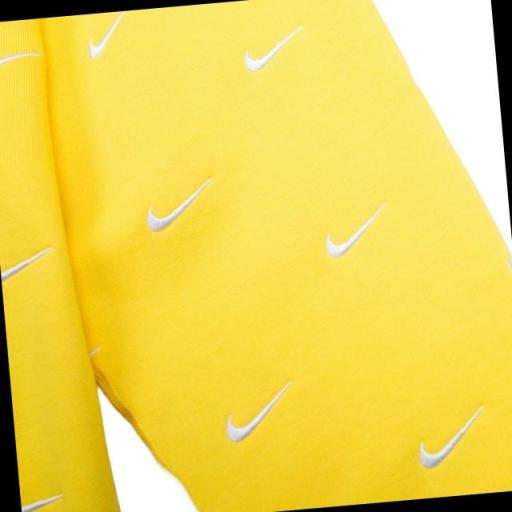Nike: (142, 178, 218, 236)
